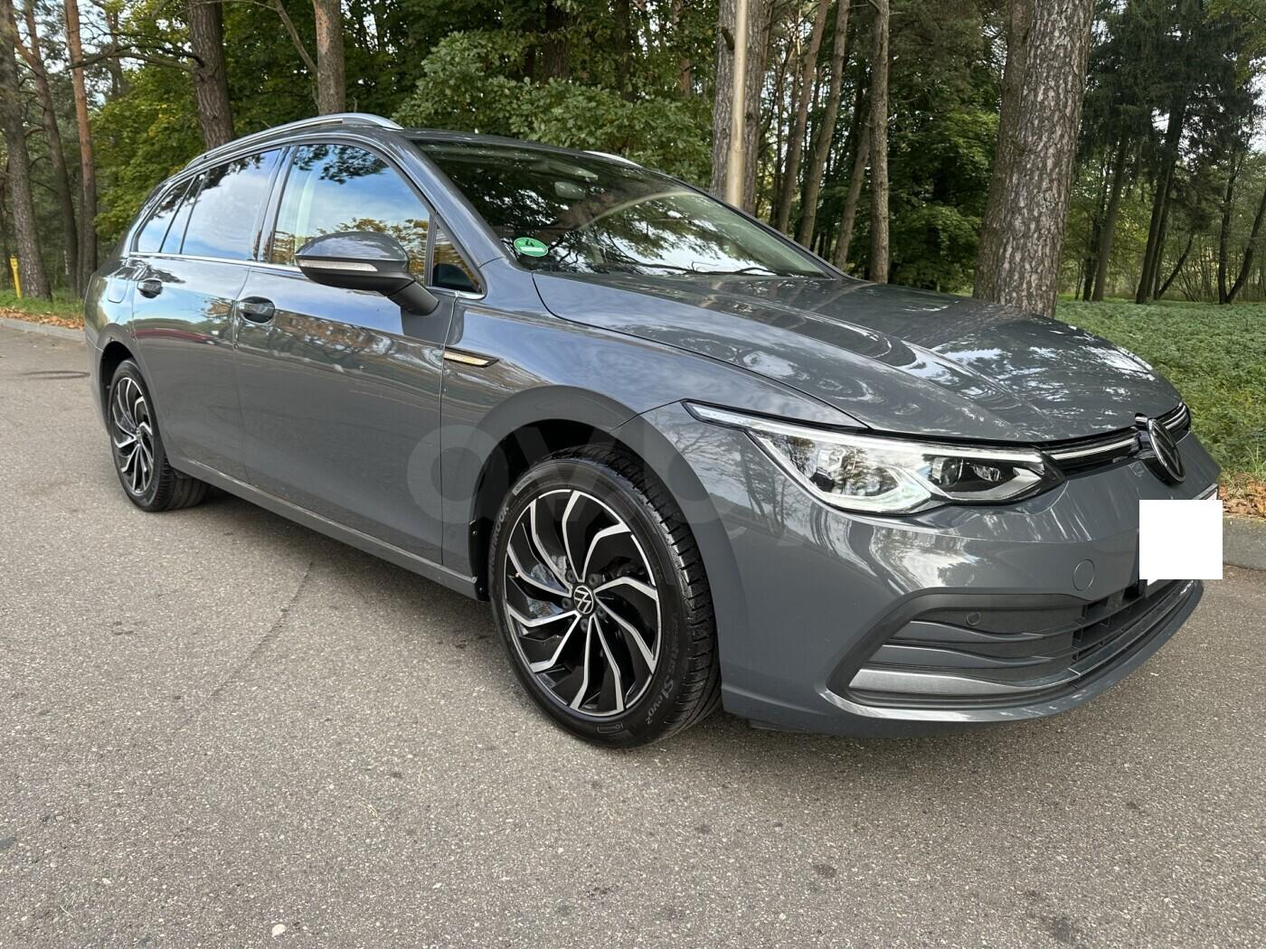Golf_2019: (78, 108, 1234, 759)
